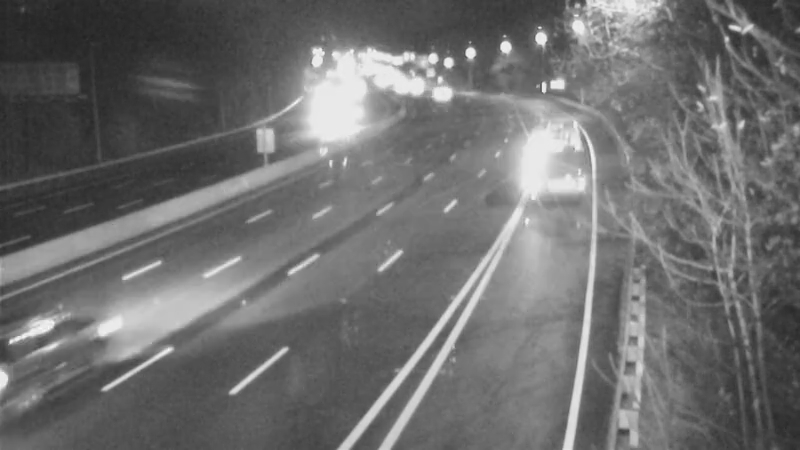vehicle: (1, 314, 97, 424), (414, 67, 464, 117), (531, 120, 581, 170), (309, 94, 359, 144)
